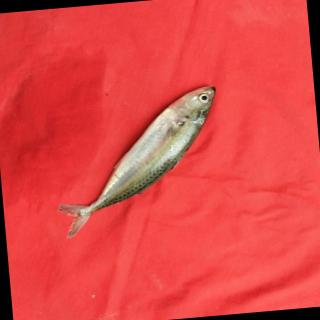Ikan: (43, 69, 236, 243)
